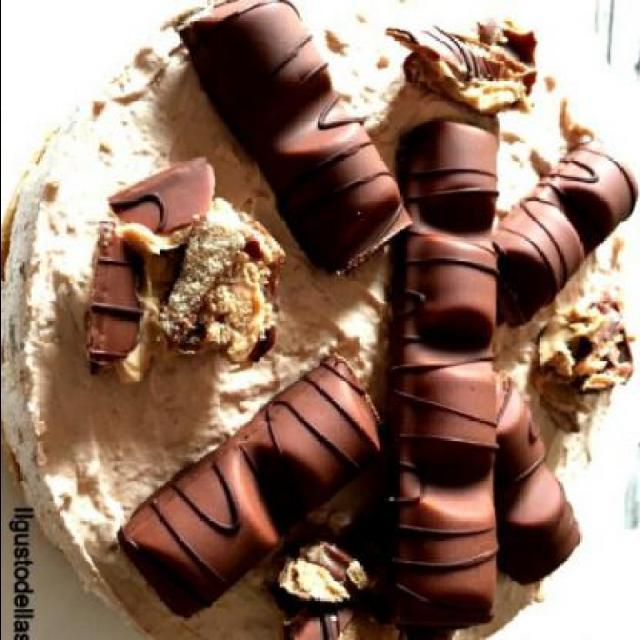Chocolate bar packaged: (117, 351, 386, 620), (378, 121, 502, 638), (182, 3, 410, 274), (488, 132, 634, 332), (488, 374, 582, 590)
